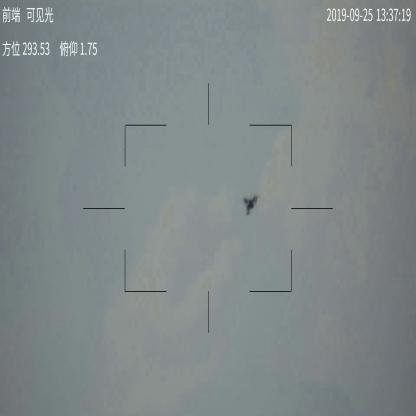uav: (242, 191, 259, 213)
